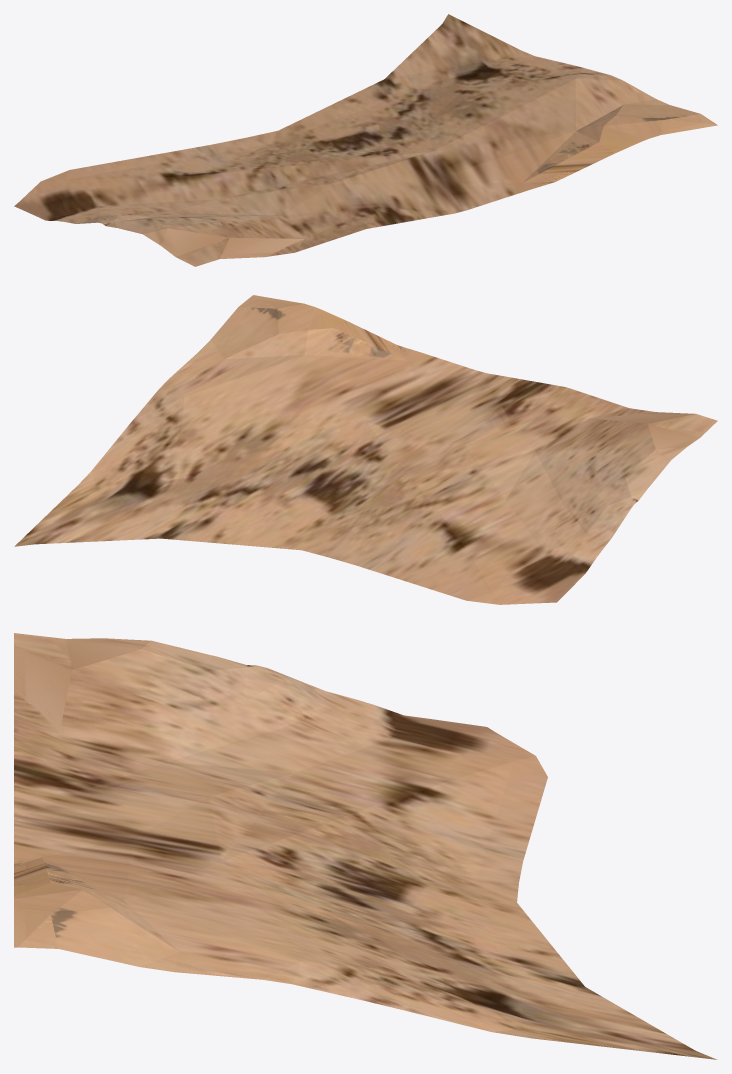
3 renders of one model, top to bottom at view 1: azimuth 30°, elevation 25°; view 2: azimuth 150°, elevation 25°; view 3: azimuth 270°, elevation 25°, orthographic. The views are drawn at different scales.
Size of the model in its own units: 2.09 by 0.3474 by 1.87.
2 materials, 2 textured.
